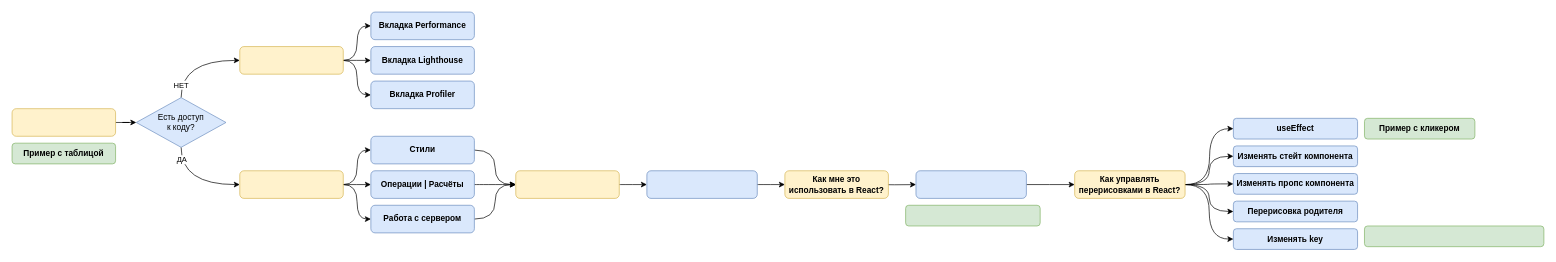
Image size: 1556x262. Some labels were removed from this diagram. Here are the shapes that lost their labels. From the top down, the centre of each, then its label:
At (291,60): "Средства разработчика".
At (63,122): "Лагает страница. В чём причина?".
At (291,184): "Куда смотреть?".
At (567,184): "Как это влияет на перерисовки?".
At (701,184): "ТЕОРИЯ | Рендеринг и перерисовки в браузере".
At (970,184): "Жизненный цикл компонента".
At (972,215): "Пример с логами на разных этапах отрисовки компонента".
At (1454,236): "Пример со сбросом фокуса в поле ввода".
